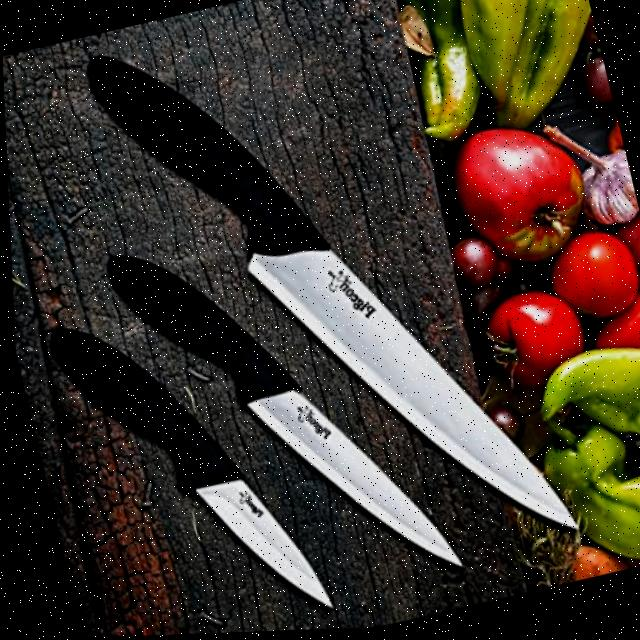knife: (77, 0, 579, 621), (97, 196, 461, 637), (36, 276, 333, 639)
